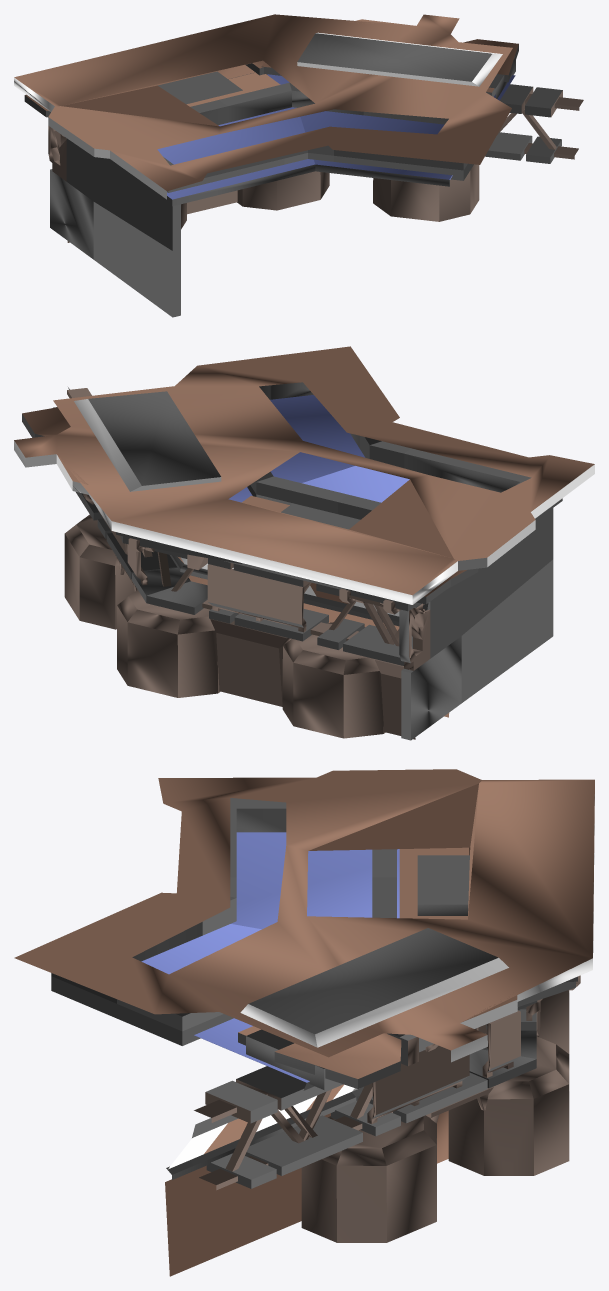
Rendered from lorville_city_plating_wall_cornerout_45degree_a_a1.glb.
3 views of the same model, one above another, from view 1: azimuth 30°, elevation 25°; view 2: azimuth 150°, elevation 25°; view 3: azimuth 270°, elevation 25° (orthographic). The views are drawn at different scales.
Bounding box in the file's own units: 407 × 129 × 320.
